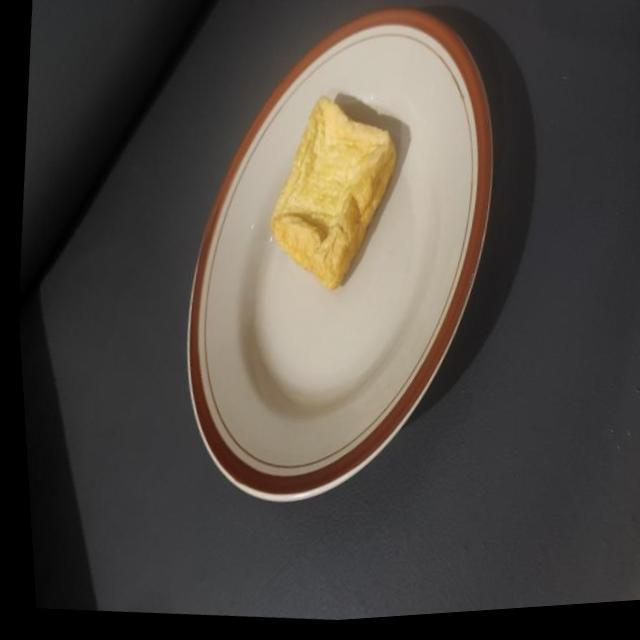tahu_goreng: (270, 96, 396, 289)
